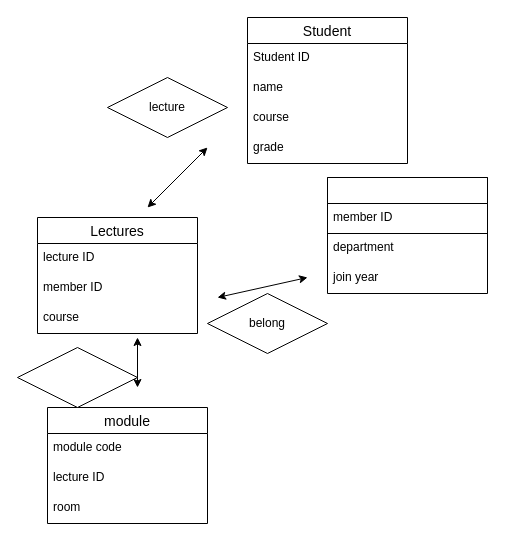
Image size: 505x544. Some labels were removed from this diagram. The centre of each missing label's shape, as x and y in pixels:
"assign" belongs at (x=77, y=377).
"Staff members" belongs at (x=407, y=205).
